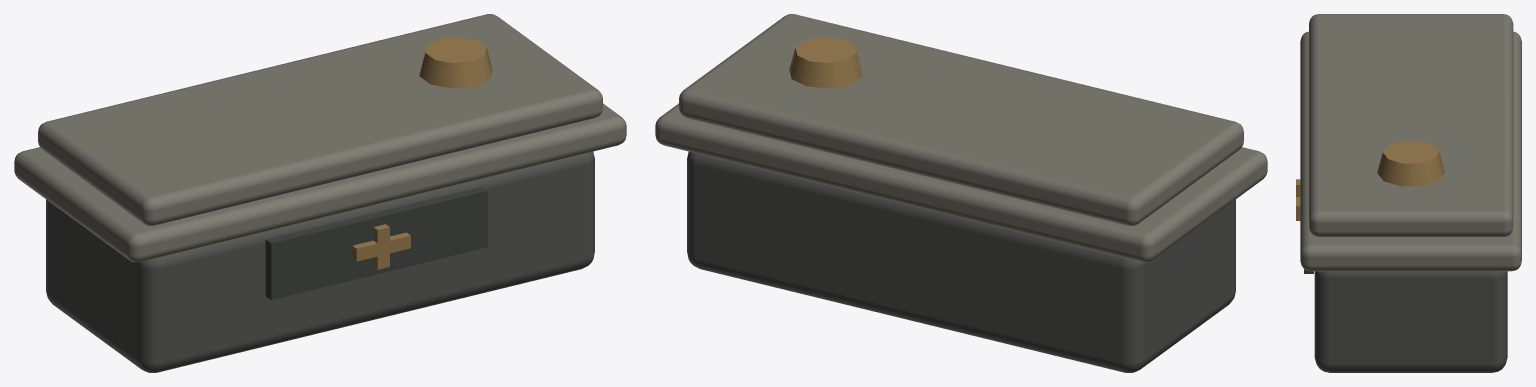
Rendered from sk_altar.glb.
3 renders of one model, left to right at view 1: azimuth 30°, elevation 25°; view 2: azimuth 150°, elevation 25°; view 3: azimuth 270°, elevation 25°, orthographic. The views are drawn at different scales.
Visible parts, largest first — view 1: stone, object 2; view 2: stone; view 3: stone.
Part boxes in pixels (x1=…): stone: x1=14, y1=14, x2=626, y2=372; object 2: x1=265, y1=186, x2=487, y2=300; stone: x1=655, y1=14, x2=1267, y2=372; stone: x1=1296, y1=14, x2=1521, y2=372.
Size of the model in its own units: 1.84 by 0.72 by 0.795.
